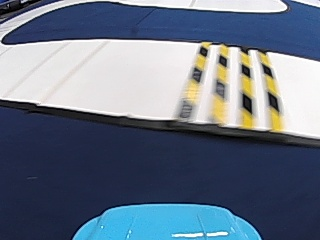bump: (169, 47, 284, 127)
